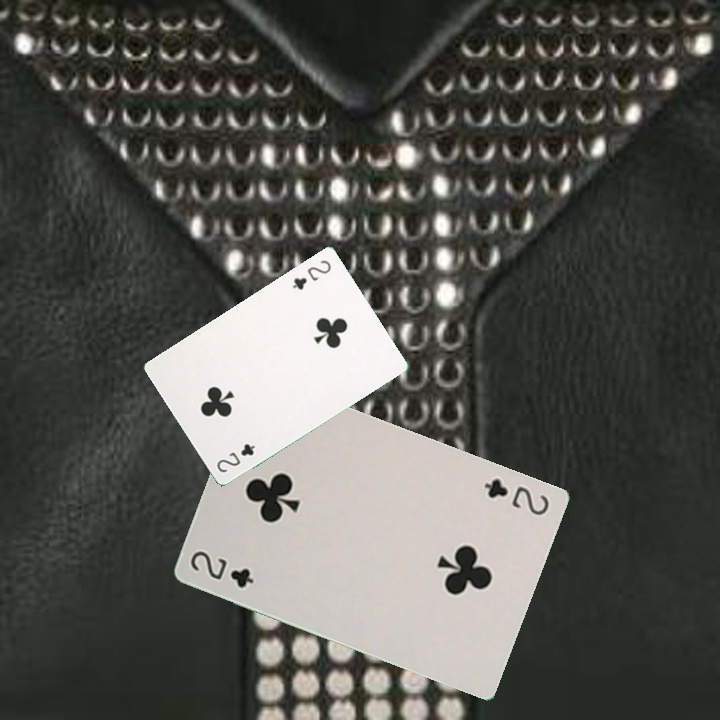2c: (186, 546, 257, 591), (480, 474, 552, 518), (288, 256, 334, 293), (212, 439, 258, 475)
